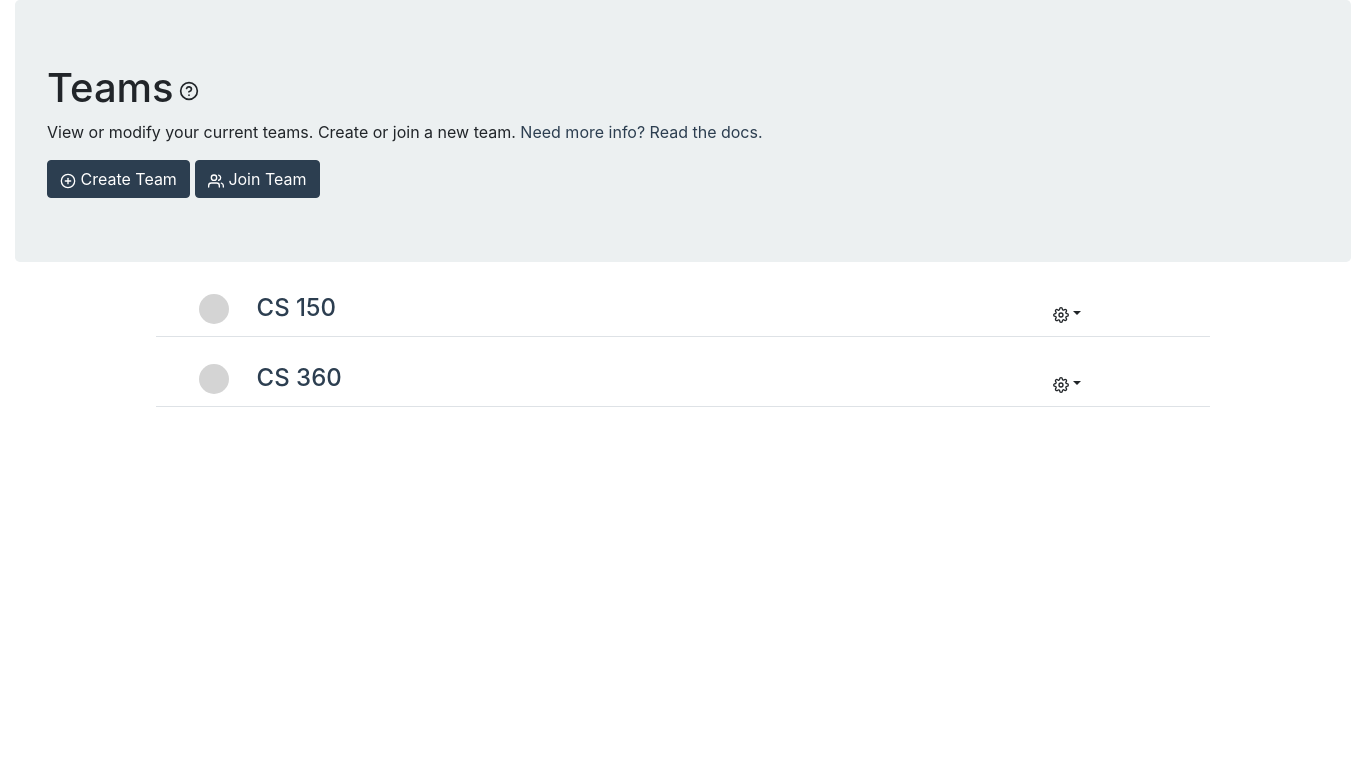
Scenario: Tests with successful API data › Verify create modal errors
The image size is (1366, 768).
Click the button "Create Team" at (118, 179), box [47, 160, 190, 198]
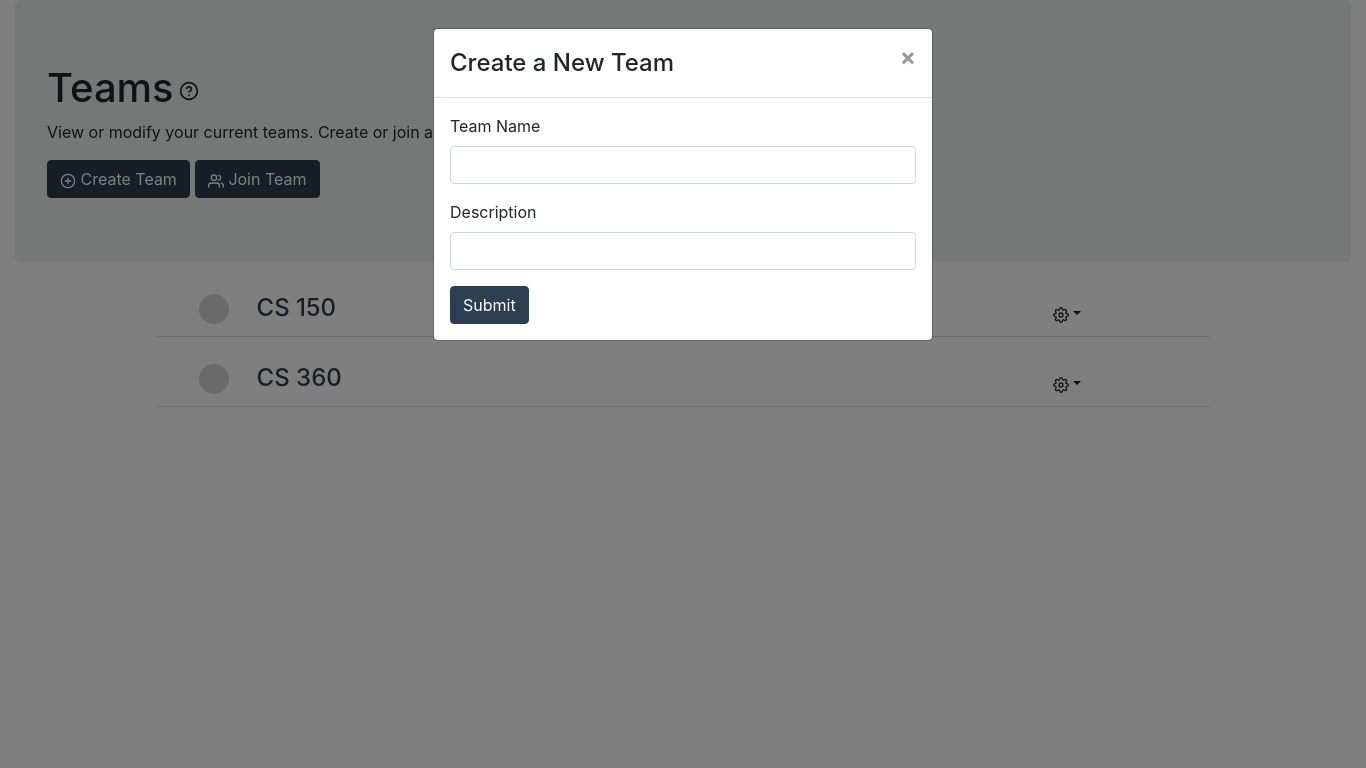
Type "Hollywood Stars" into the field labelled "Team Name" at (683, 165), box [450, 146, 916, 184]
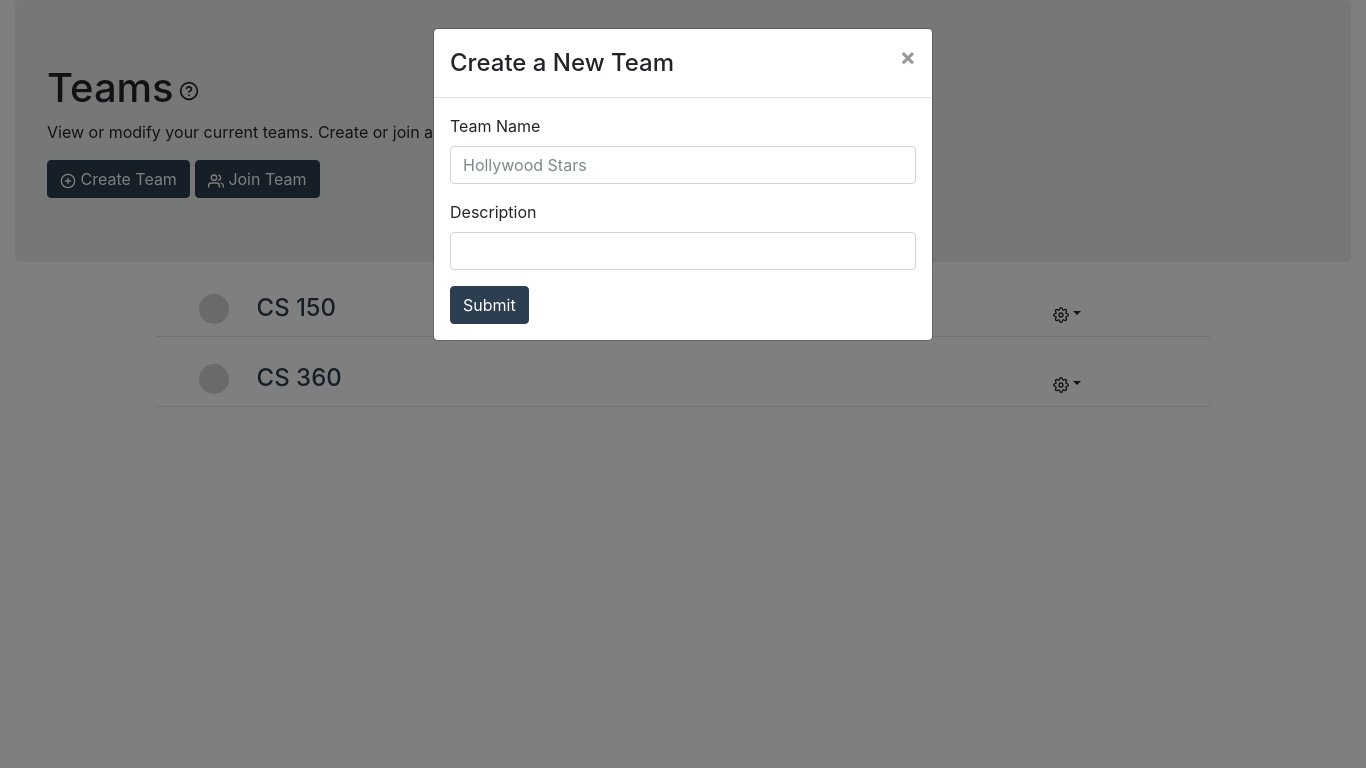
Type "Hello World!" into the field labelled "Description" at (683, 251), box [450, 232, 916, 270]
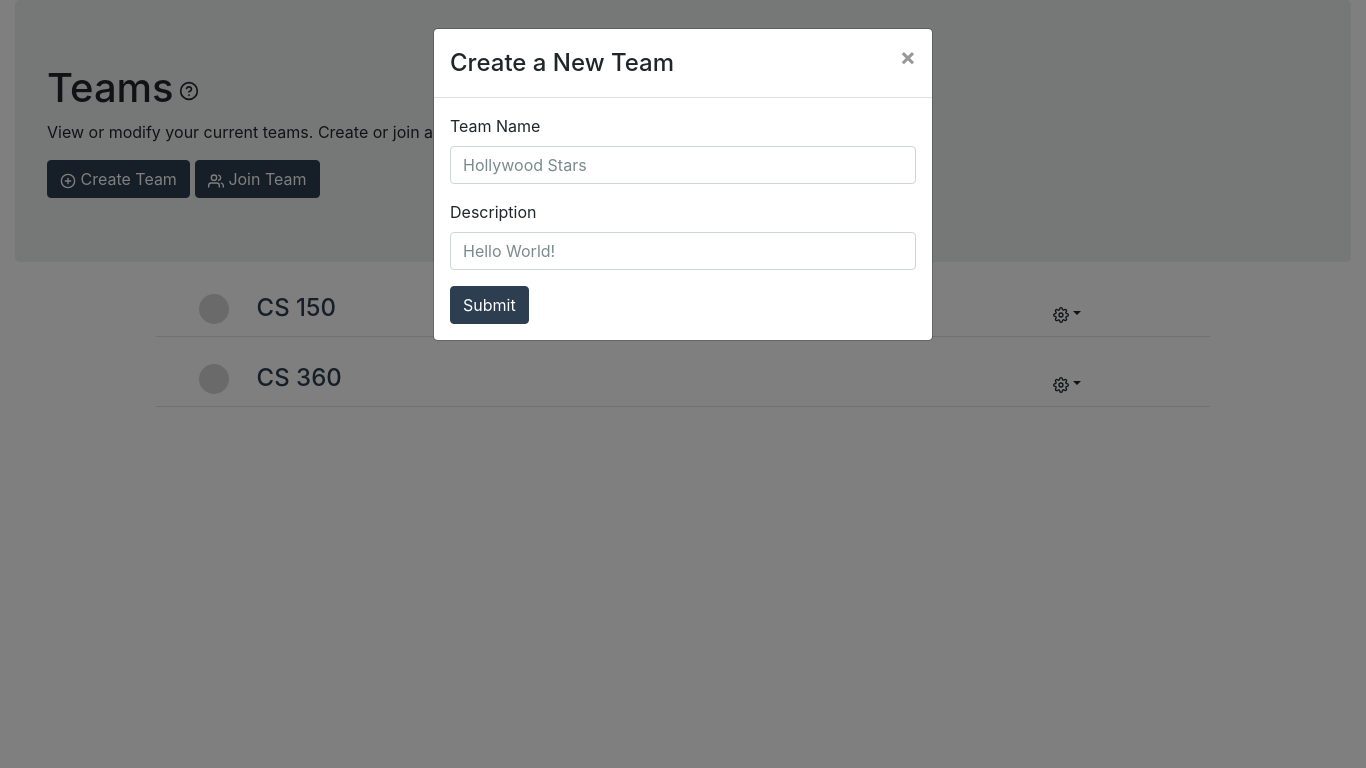
Click the button "Submit" at (489, 305), box [450, 286, 529, 324]
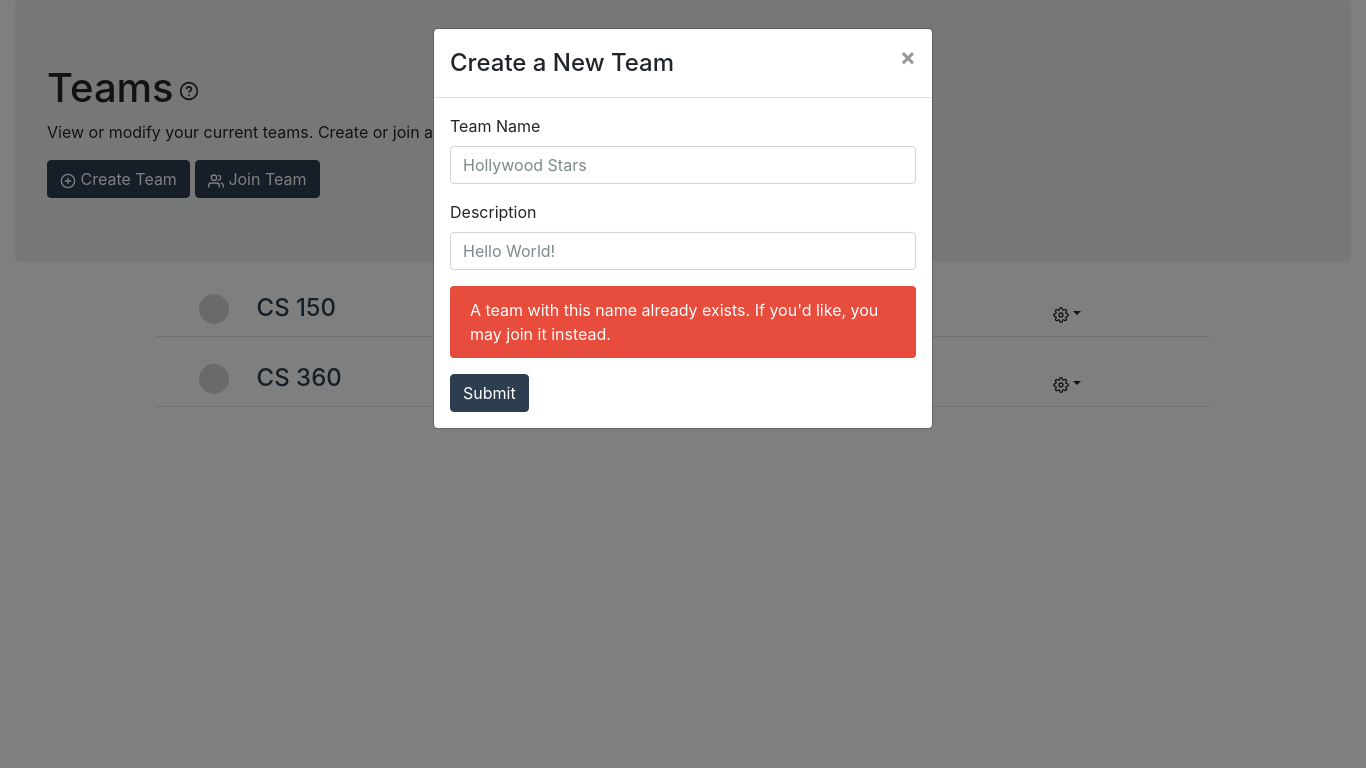
expect the text "A team with this name already exists. If you'd like, you may join it instead." is shown: met, box [450, 286, 916, 358]
